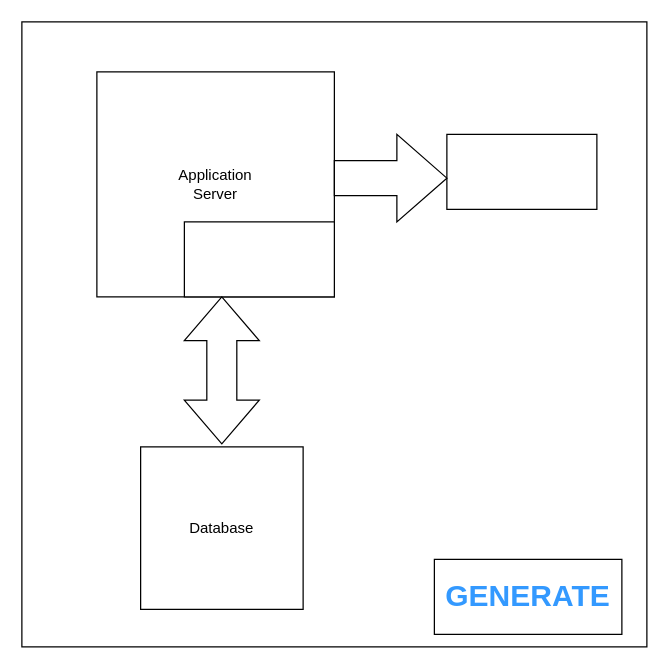
The diagram is 669 pixels wide and 669 high, and some of its shapes have lost their labels. The centre of each missing label's shape, as x and y in pixels:
"Cache" belongs at point 258,259.
"HSM" belongs at point 521,171.
